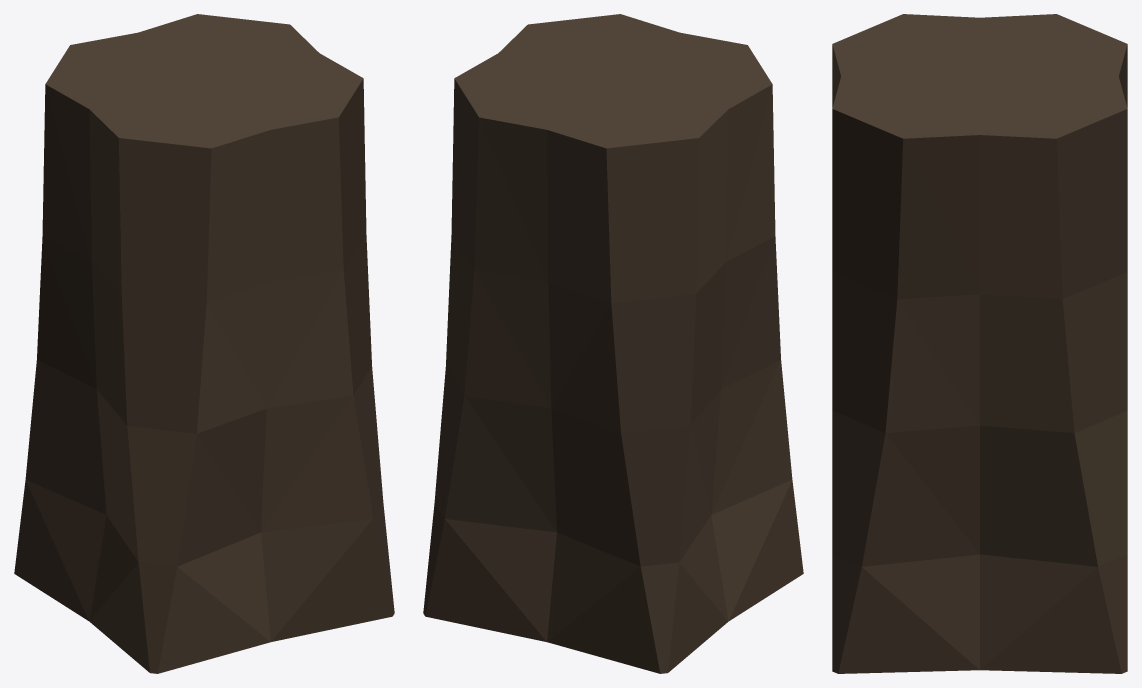
Rendered from Section_1.glb.
3 renders of one model, left to right at view 1: azimuth 30°, elevation 25°; view 2: azimuth 150°, elevation 25°; view 3: azimuth 270°, elevation 25°, orthographic. The views are drawn at different scales.
Parts seen in each view (by area): view 1: Section; view 2: Section; view 3: Section.
Part boxes in pixels (x1,y1,x2,y2): Section: (14,14,394,673); Section: (423,14,803,673); Section: (832,14,1127,673).
Bounding box in the file's own units: 2.4 × 4.8 × 2.4.
